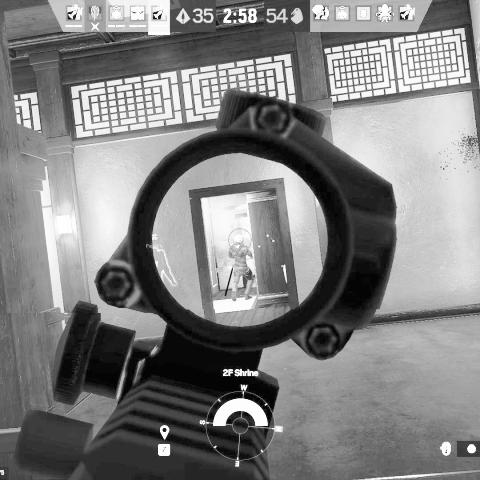Character: (226, 233, 256, 303)
Friend_label: (147, 233, 165, 249)
Head: (233, 234, 244, 245)
